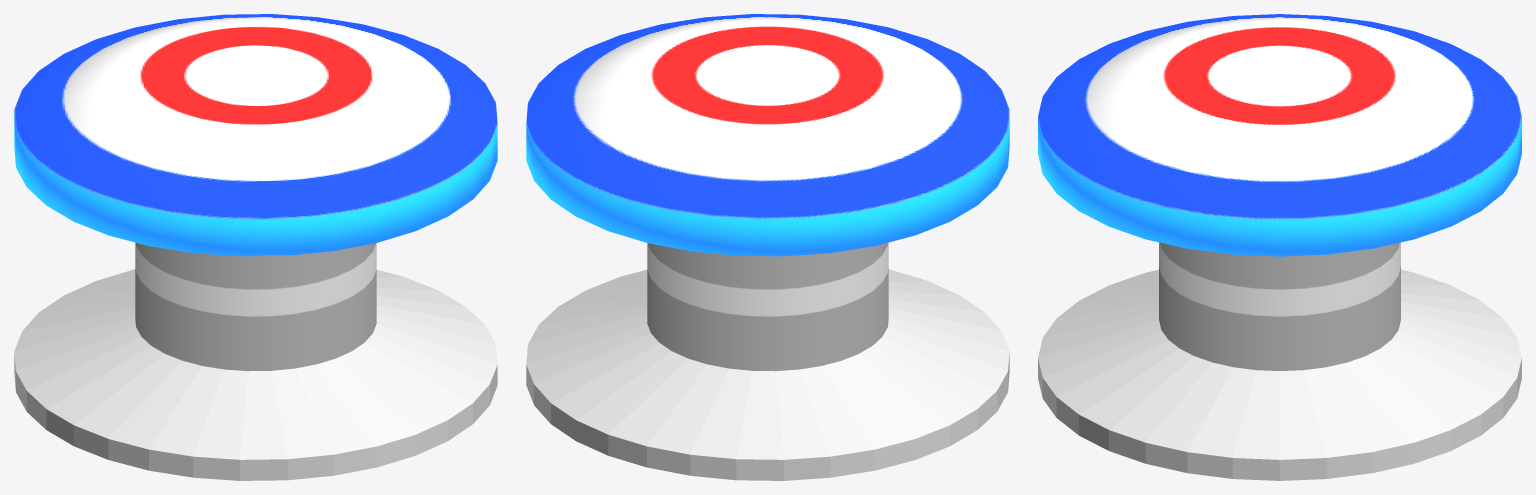
File: bumperModel.glb
3 renders of one model, left to right at view 1: azimuth 30°, elevation 25°; view 2: azimuth 150°, elevation 25°; view 3: azimuth 270°, elevation 25°, orthographic.
Parts seen in each view (by area): view 1: Bumper; view 2: Bumper; view 3: Bumper.
Boxes of the visible parts, x1=… form: Bumper: x1=14, y1=14, x2=497, y2=480; Bumper: x1=526, y1=14, x2=1009, y2=480; Bumper: x1=1038, y1=14, x2=1521, y2=480.
Size of the model in its own units: 2 by 1.38 by 2.
Materials: 1 (1 with a texture image).
